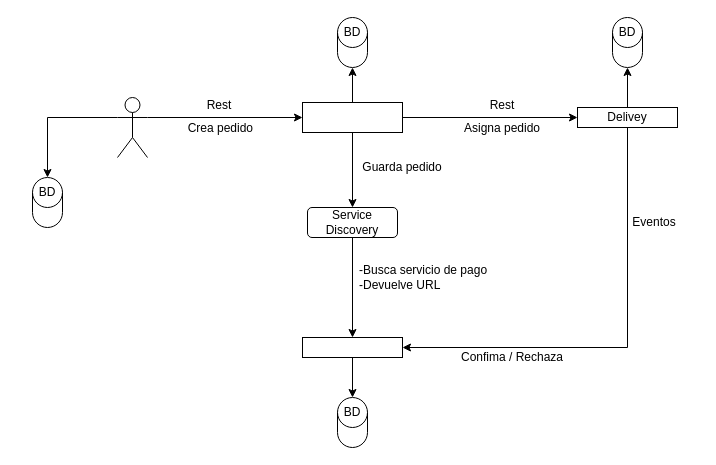
This 716x465 diagram has some shape labels left out. The shapes that lost their labels are listed below. From the top down, each one's box as (x1, y1, x2, y2) in pixels, then its label:
(116, 96, 148, 158): Cliente
(302, 102, 402, 132): Gestion de pedidos
(302, 336, 402, 358): Servicio de pago
